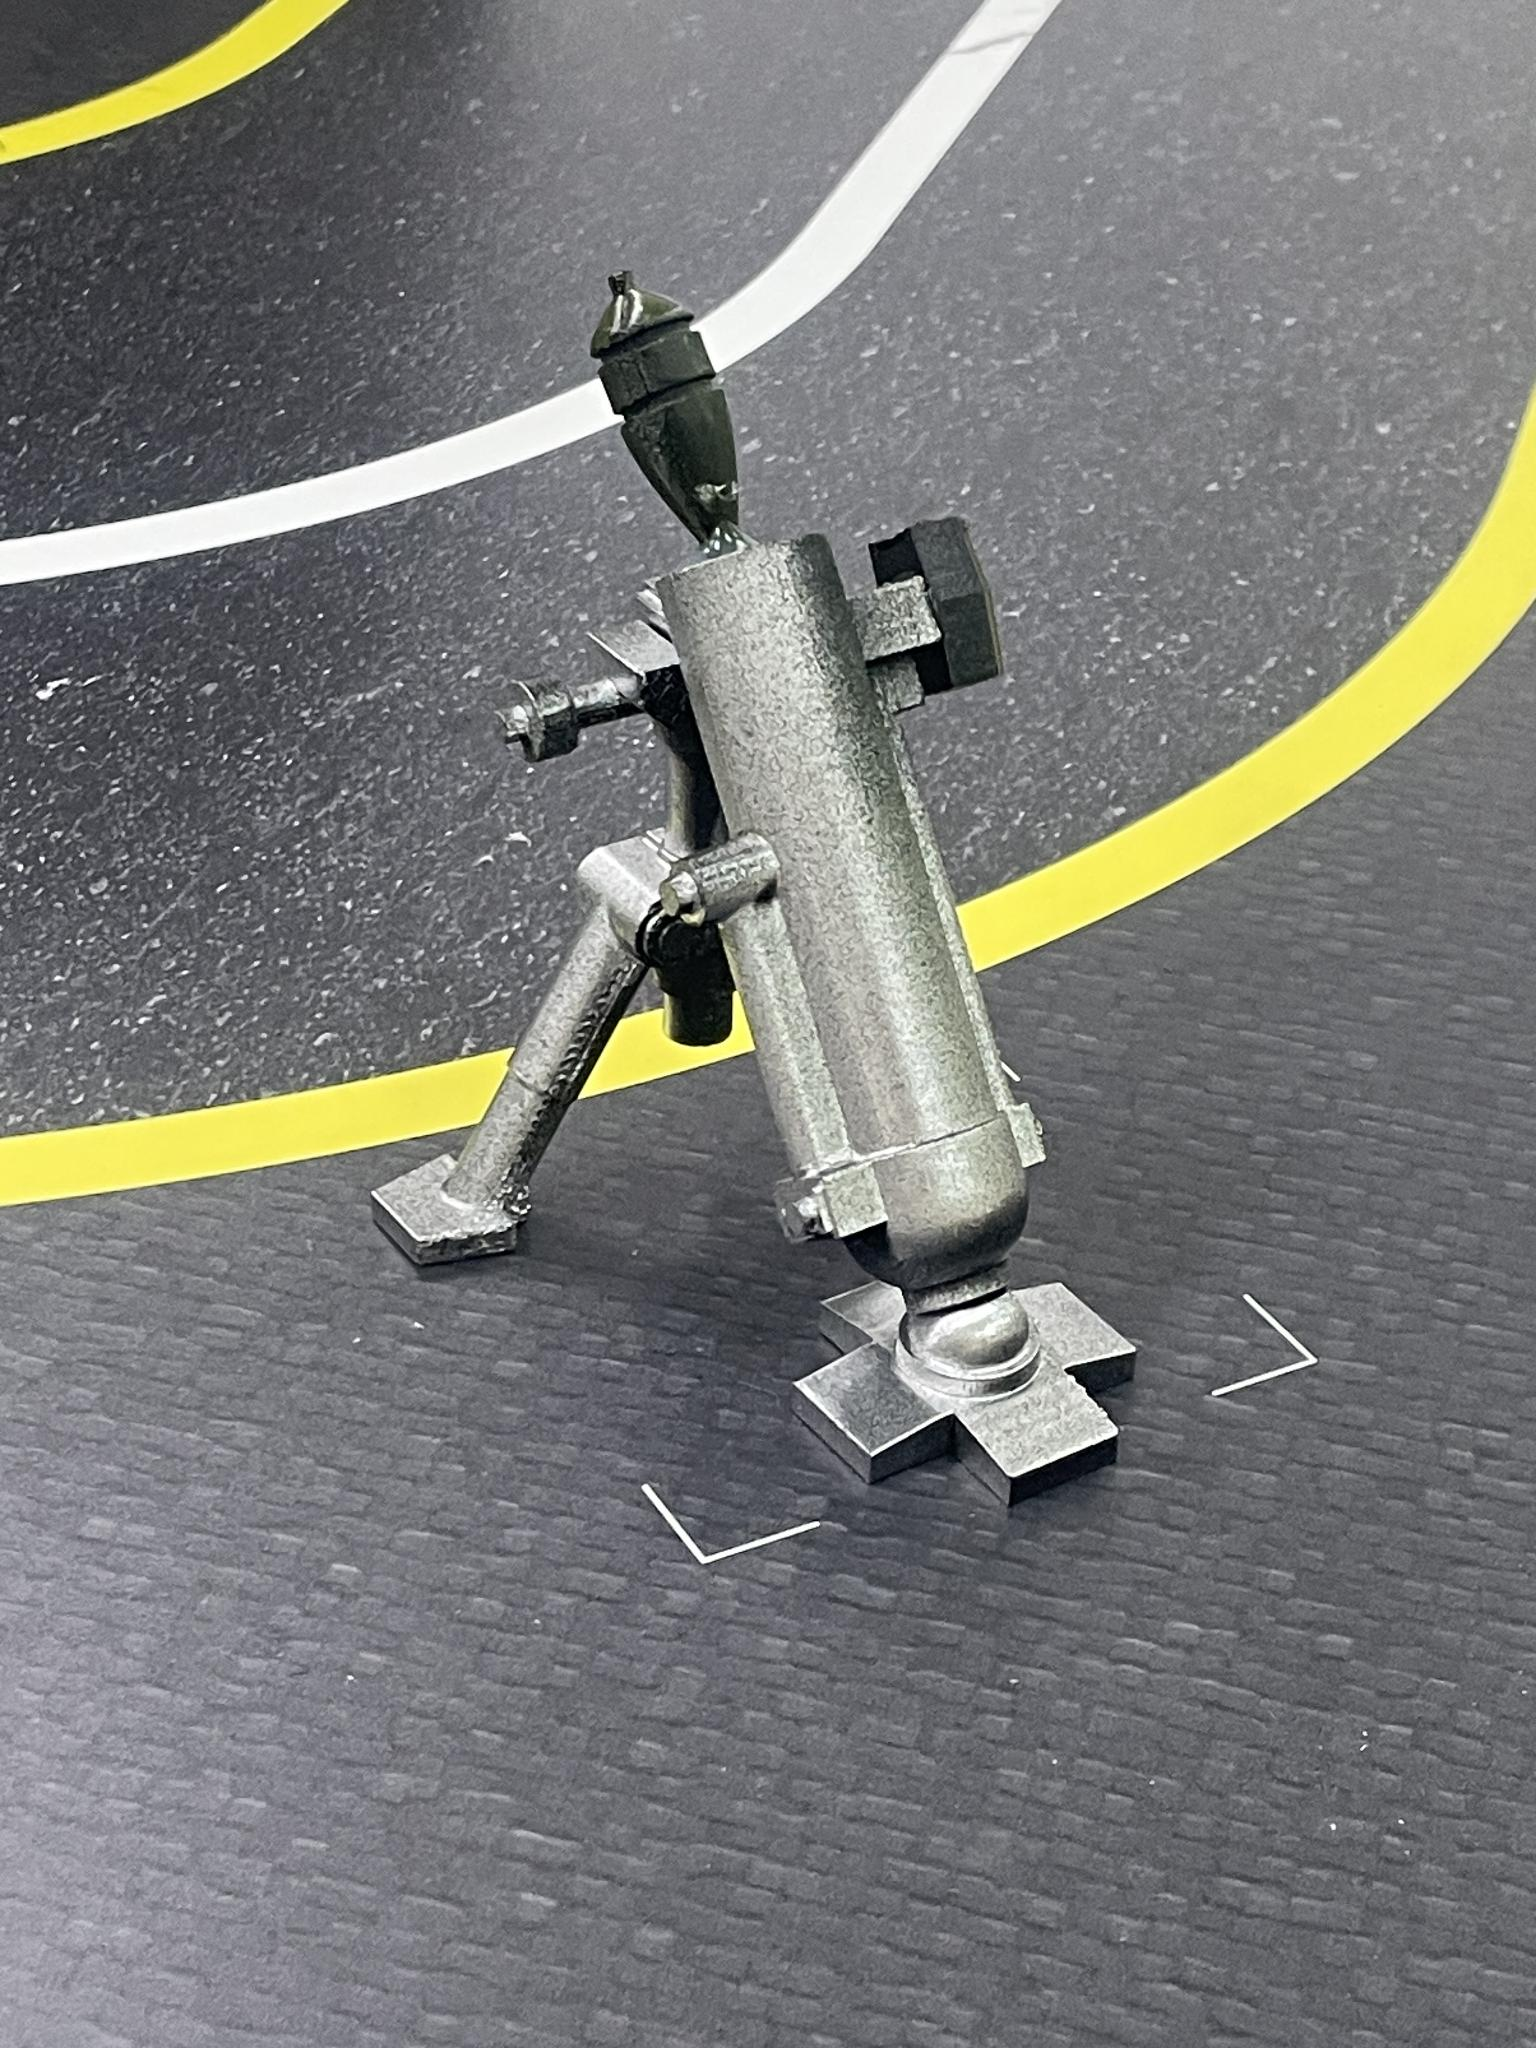Mortar: (368, 264, 1148, 1521)
